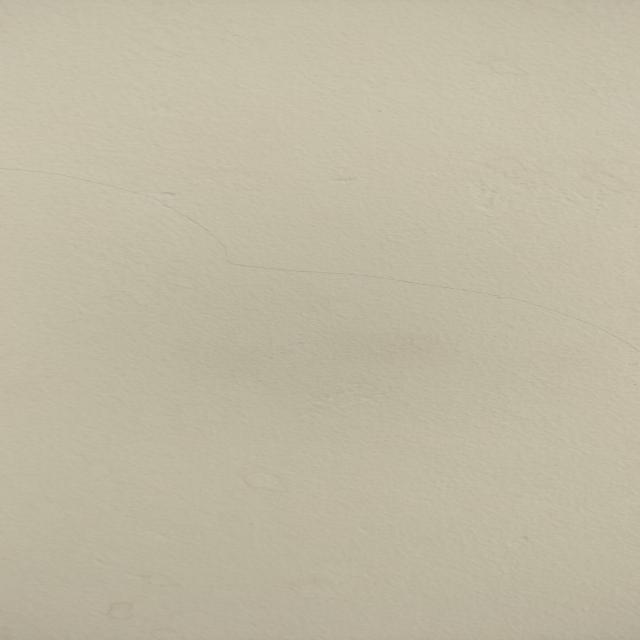Crack: (5, 166, 640, 354)
